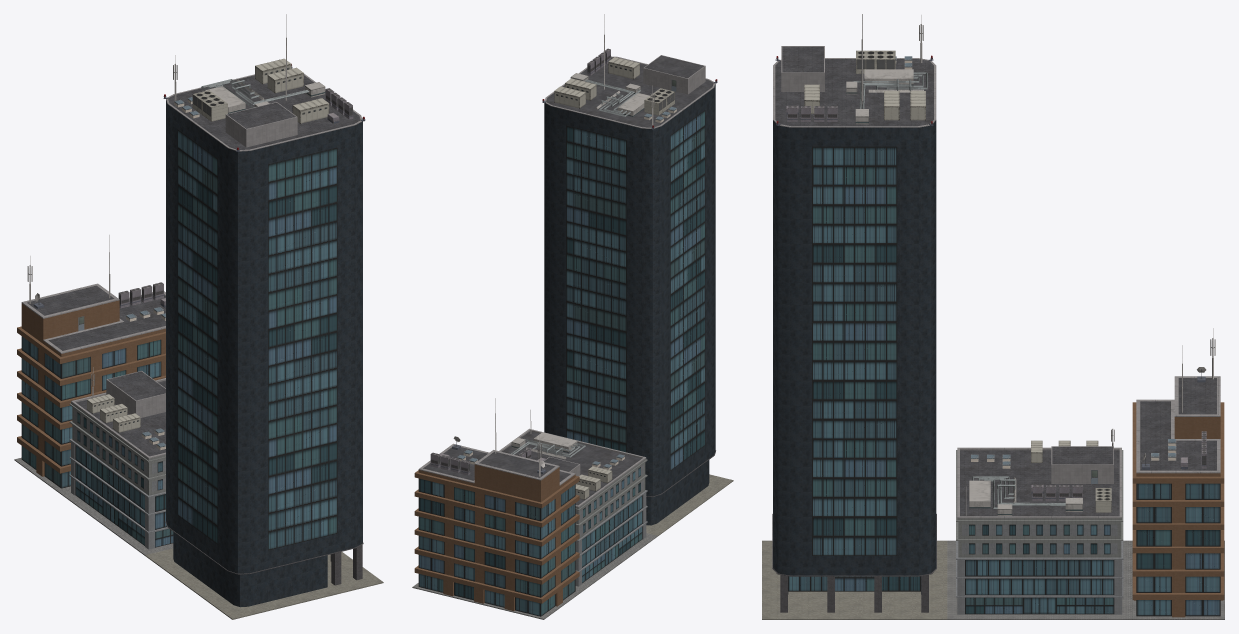
The model's file is jctlowBldSetE.fbx.
The picture shows the model from 3 angles, left to right: view 1: azimuth 30°, elevation 25°; view 2: azimuth 150°, elevation 25°; view 3: azimuth 270°, elevation 25°; orthographic projection. The views are drawn at different scales.
Visible parts, largest first — view 1: jctlowBldSetE; view 2: jctlowBldSetE; view 3: jctlowBldSetE.
Boxes of the visible parts, x1,y1,x2,y2 form: jctlowBldSetE: [14, 14, 383, 619]; jctlowBldSetE: [412, 14, 733, 619]; jctlowBldSetE: [762, 14, 1224, 619].
Size of the model in its own units: 2400 by 8298 by 6000.
12 materials, 12 textured.
